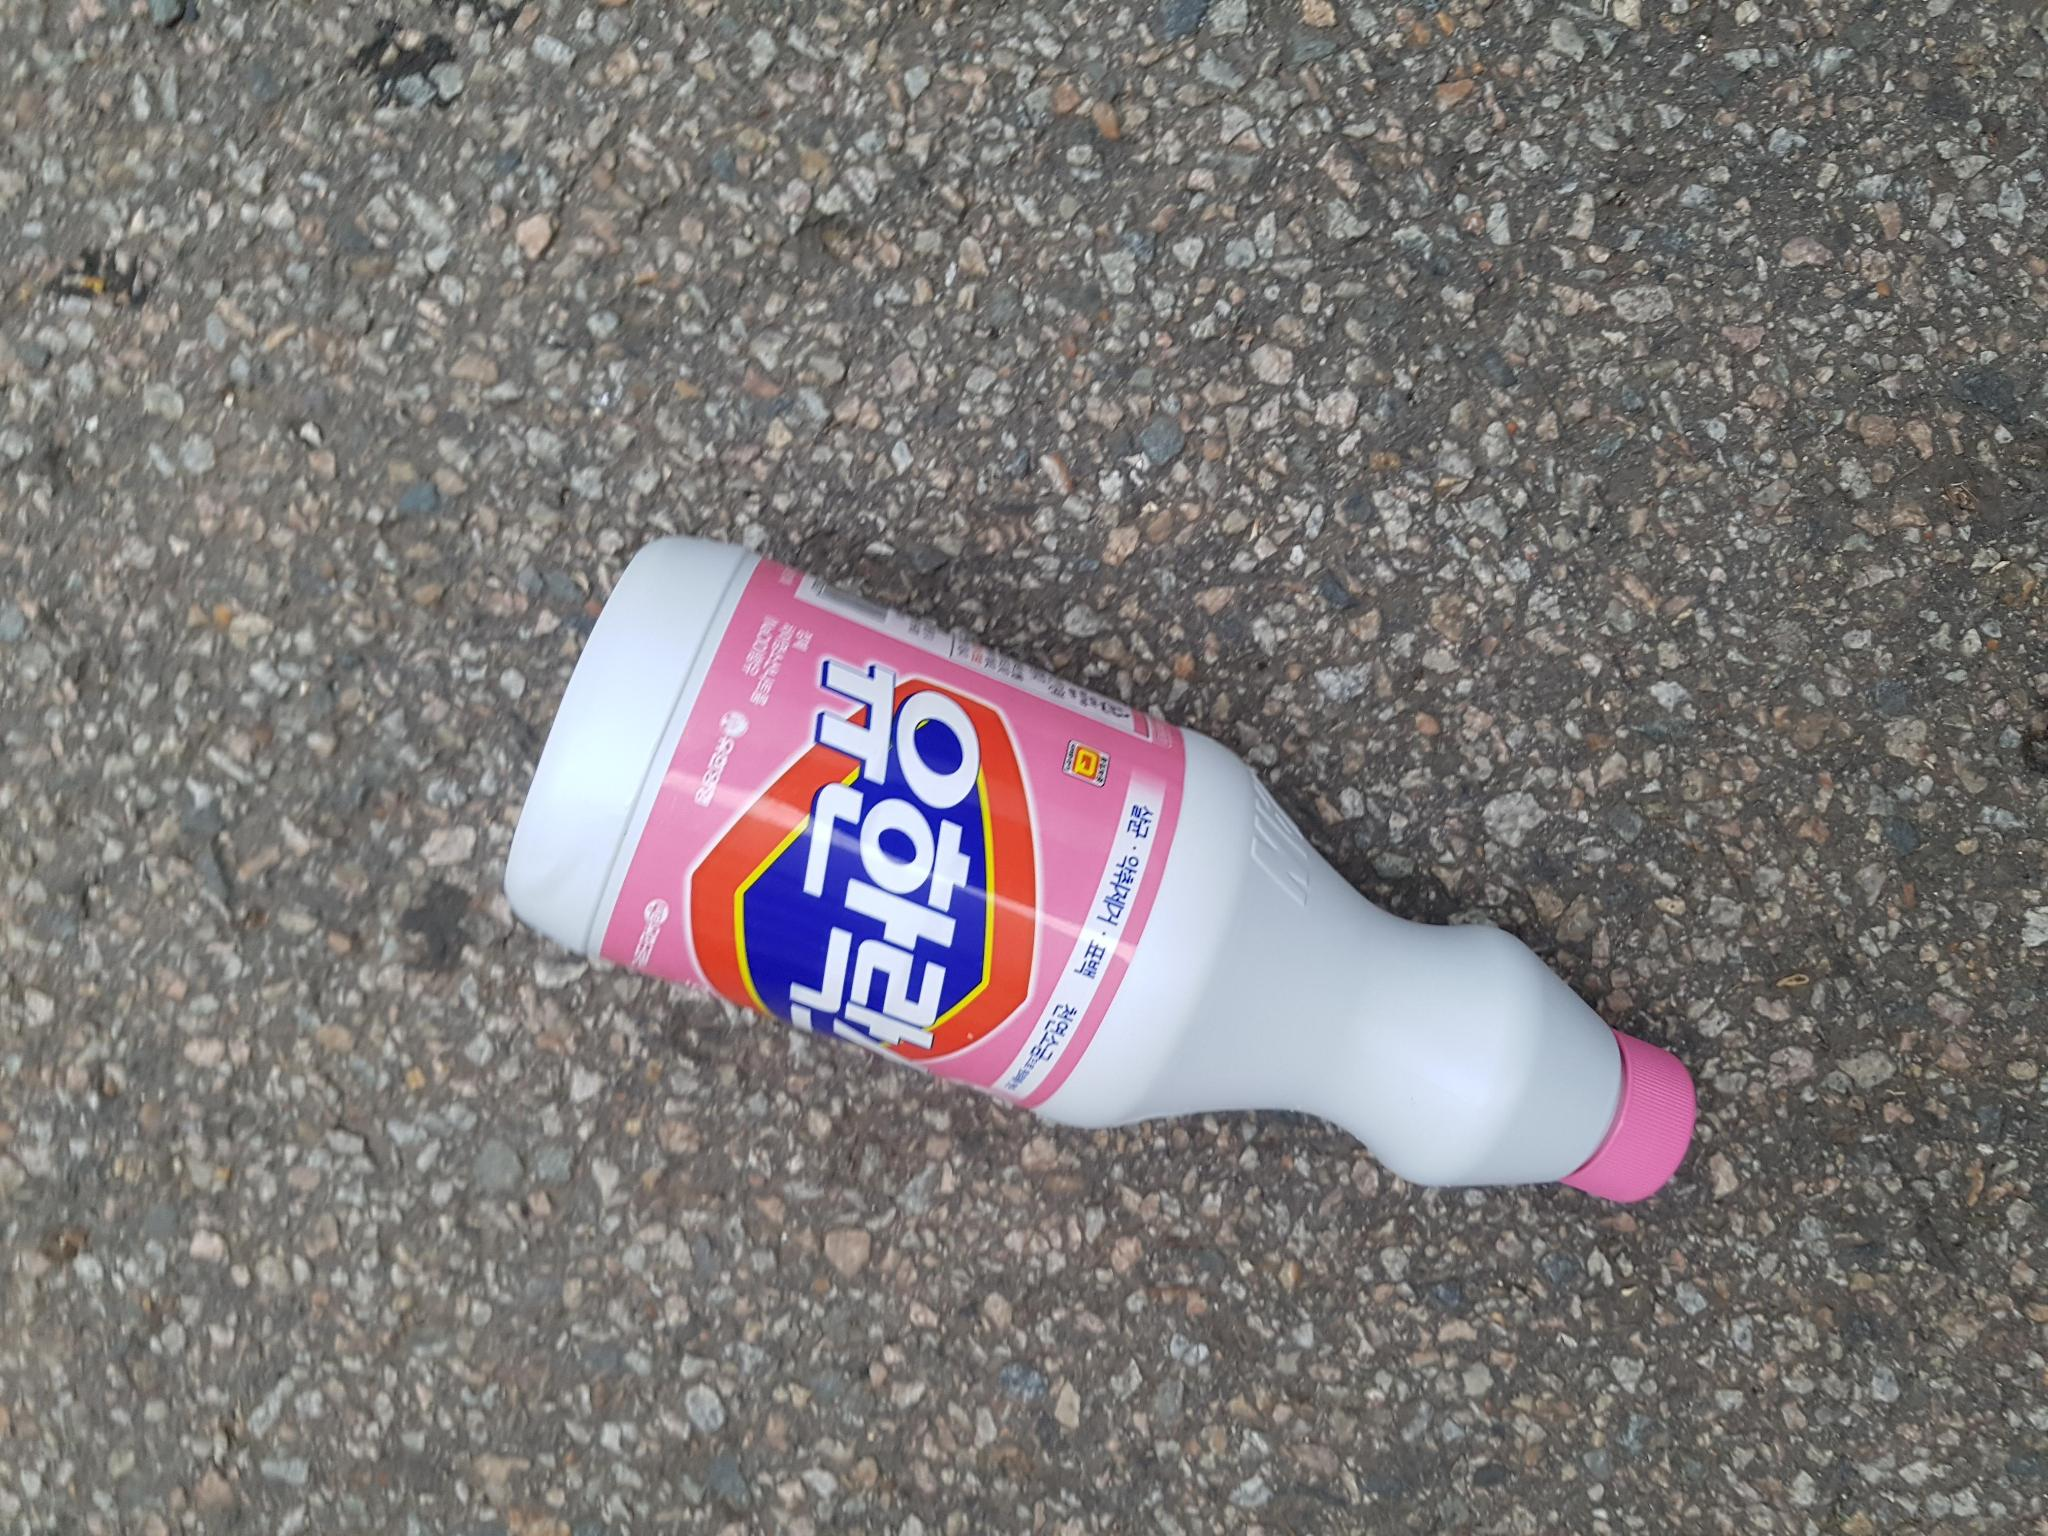bottle: (502, 539, 1722, 1226)
